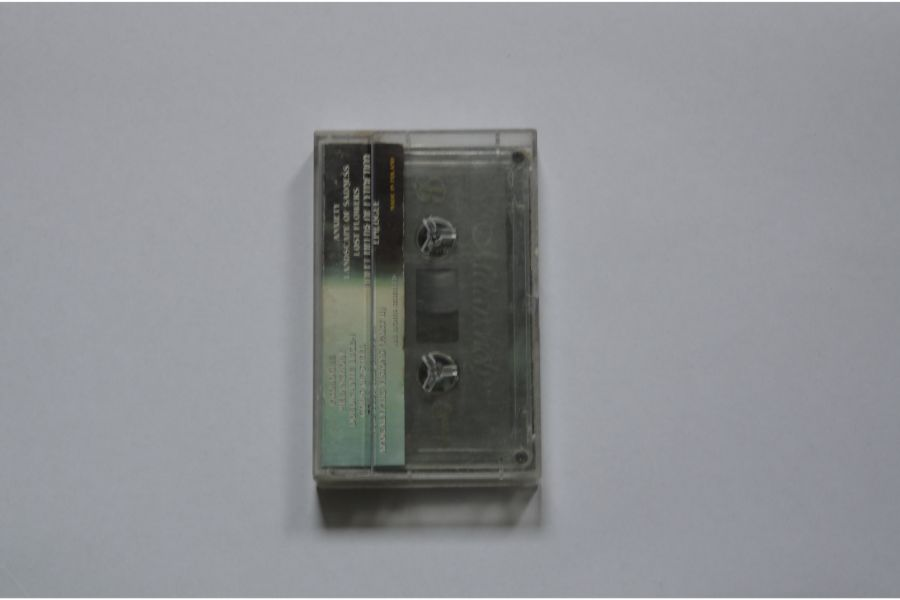album: (308, 127, 540, 493)
